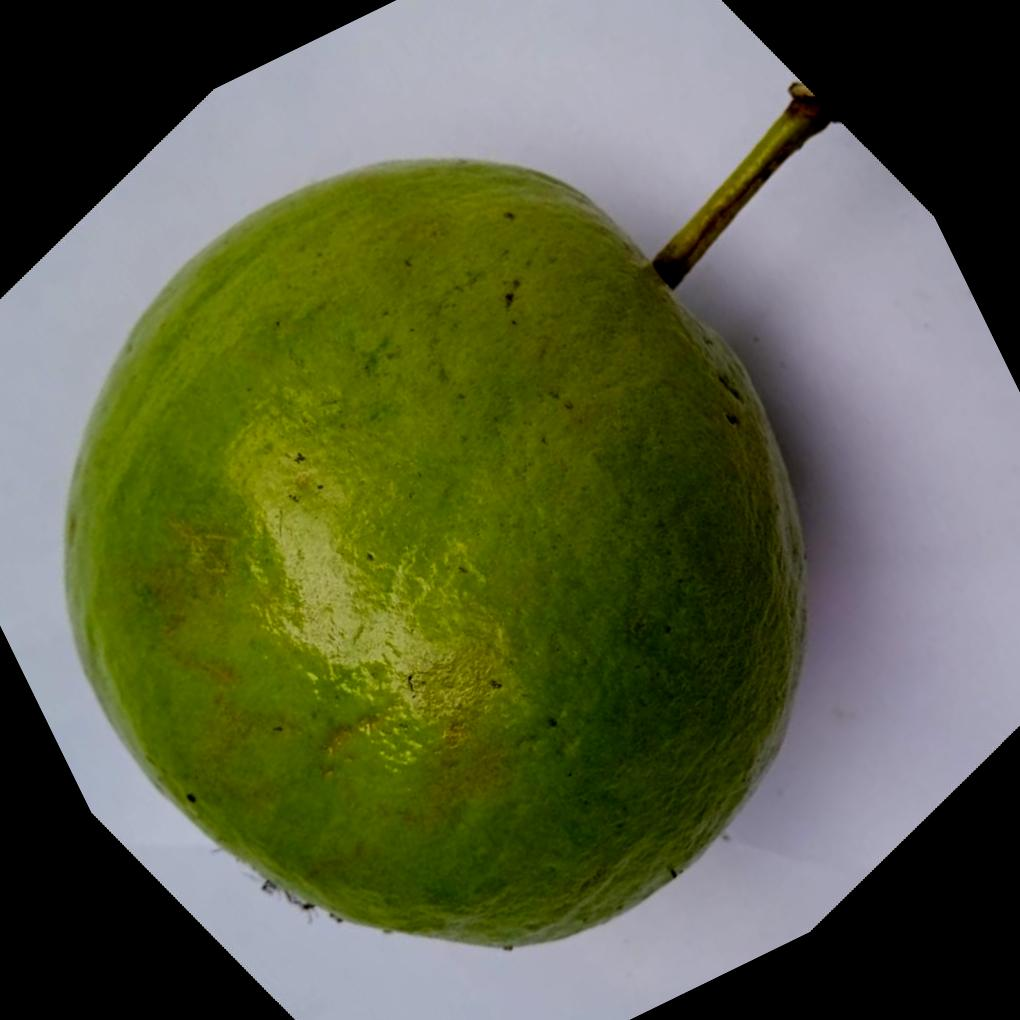FreshGuava: (59, 152, 808, 948)
